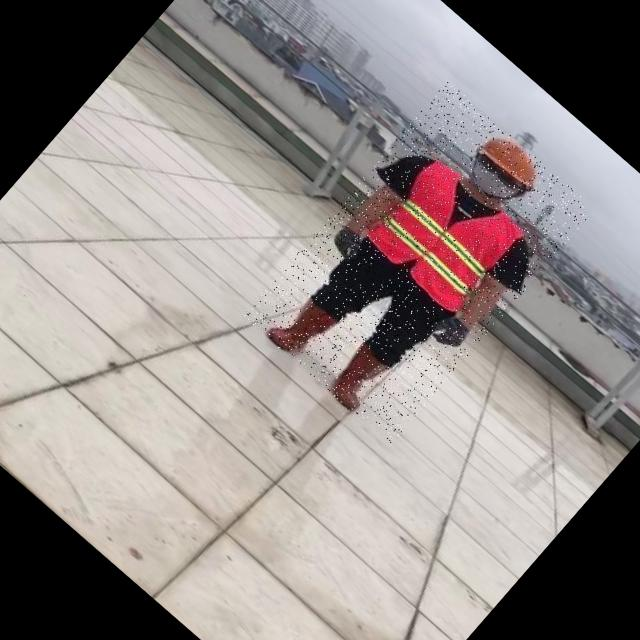hard_hat: (475, 126, 548, 194)
safety_vest: (363, 154, 530, 319)
vehicle: (242, 81, 596, 445)
work_boots: (264, 290, 340, 366), (322, 341, 395, 416)
